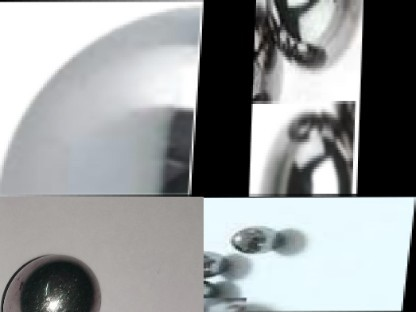ironball: (0, 0, 201, 196), (250, 99, 356, 196), (258, 0, 363, 81), (0, 249, 108, 311), (251, 0, 275, 155), (216, 218, 297, 257), (203, 247, 239, 272), (203, 296, 249, 312)
